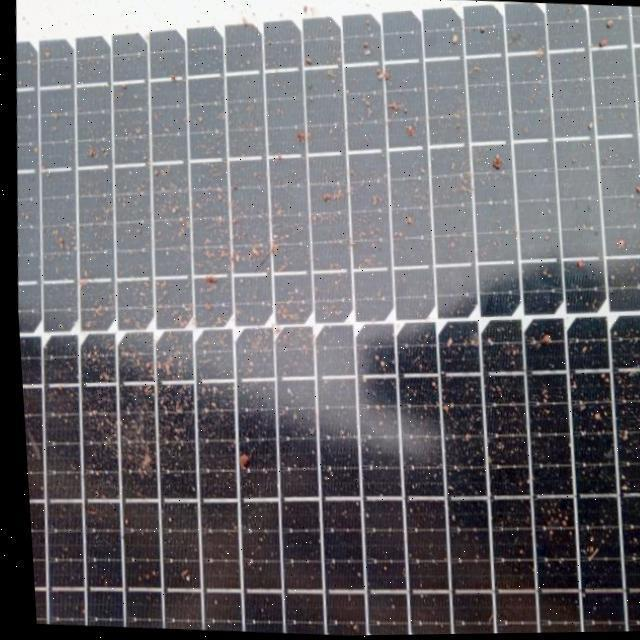Anomaly Solar Panel: (15, 0, 640, 636)
Surface Contaminant: (15, 13, 640, 621)
